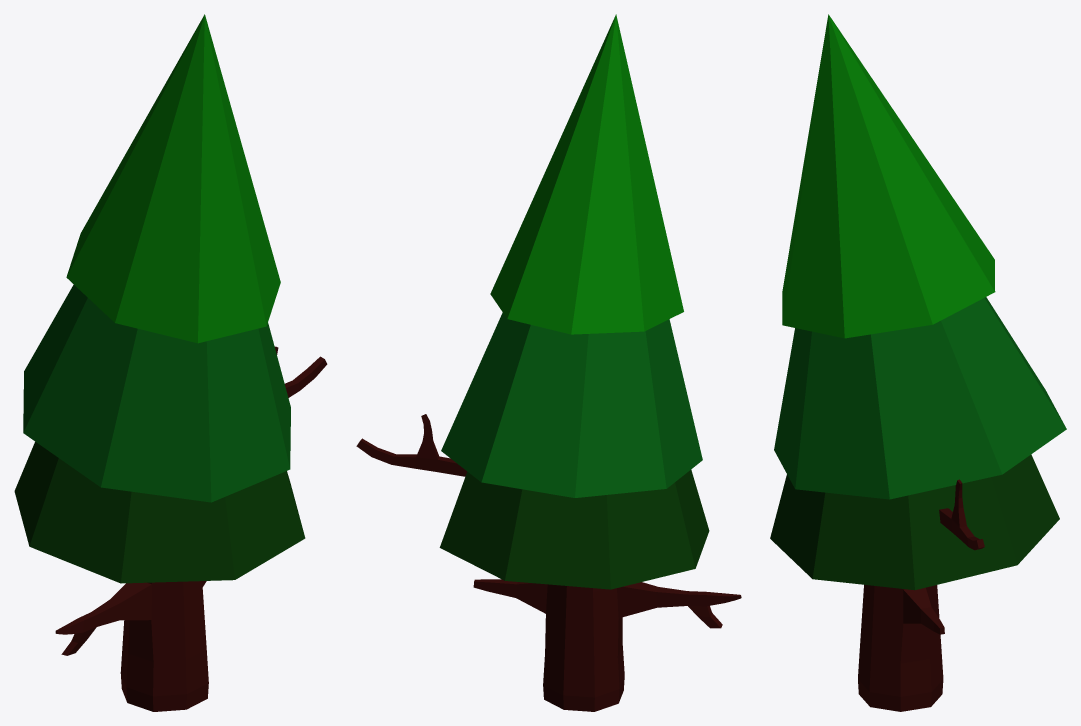
File: PinheiroVar3.fbx
3 renders of one model, left to right at view 1: azimuth 30°, elevation 25°; view 2: azimuth 150°, elevation 25°; view 3: azimuth 270°, elevation 25°, orthographic. The views are drawn at different scales.
Parts seen in each view (by area): view 1: PinheiroVar3; view 2: PinheiroVar3; view 3: PinheiroVar3.
Boxes of the visible parts, bbox=[...] form: PinheiroVar3: bbox=[14, 14, 327, 711]; PinheiroVar3: bbox=[356, 14, 741, 711]; PinheiroVar3: bbox=[770, 14, 1066, 711].
Bounding box in the file's own units: 254 × 505 × 198.
